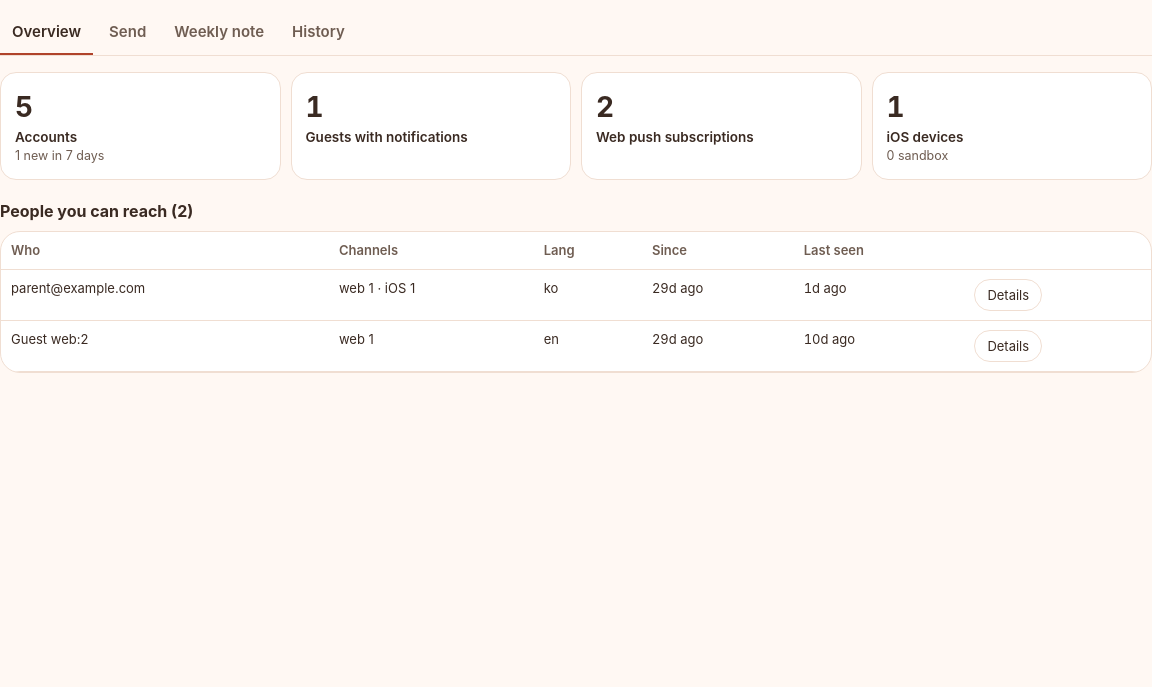
Test: AdminScreen › sending to others unlocks only after a test of the same words, and edits relock it
Click the tab with test id "tab-send" at (128, 33), box [97,11,158,55]
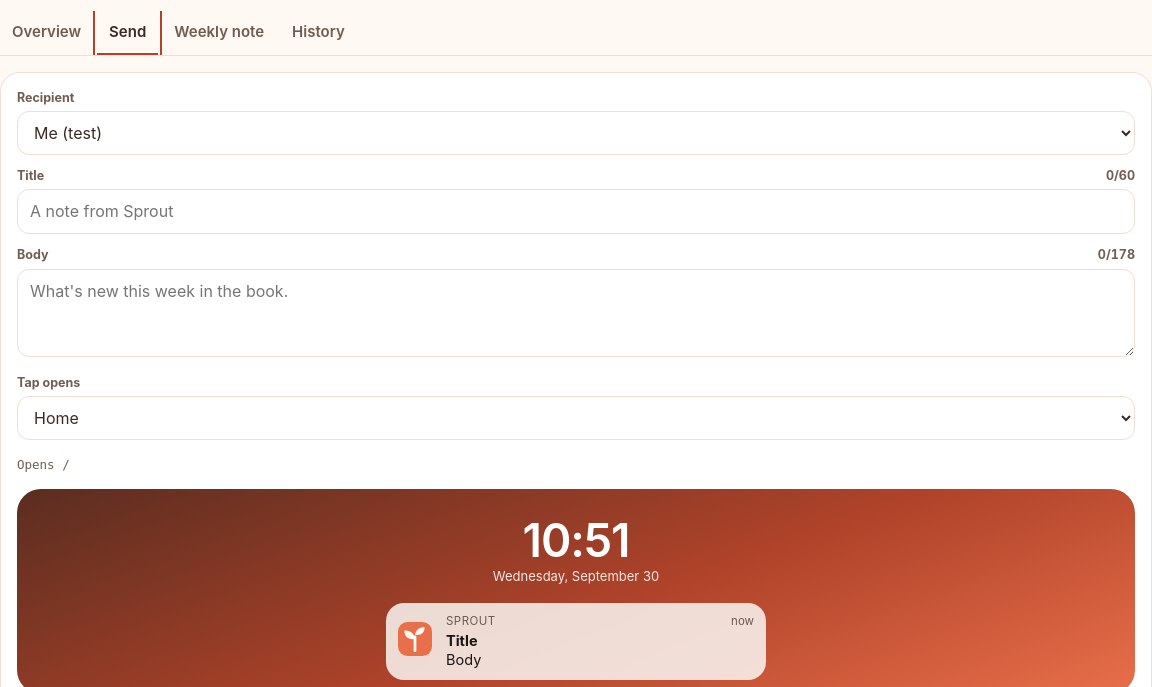
Type "Hello" into the field with test id "admin-title" at (576, 212), box [17,189,1135,234]
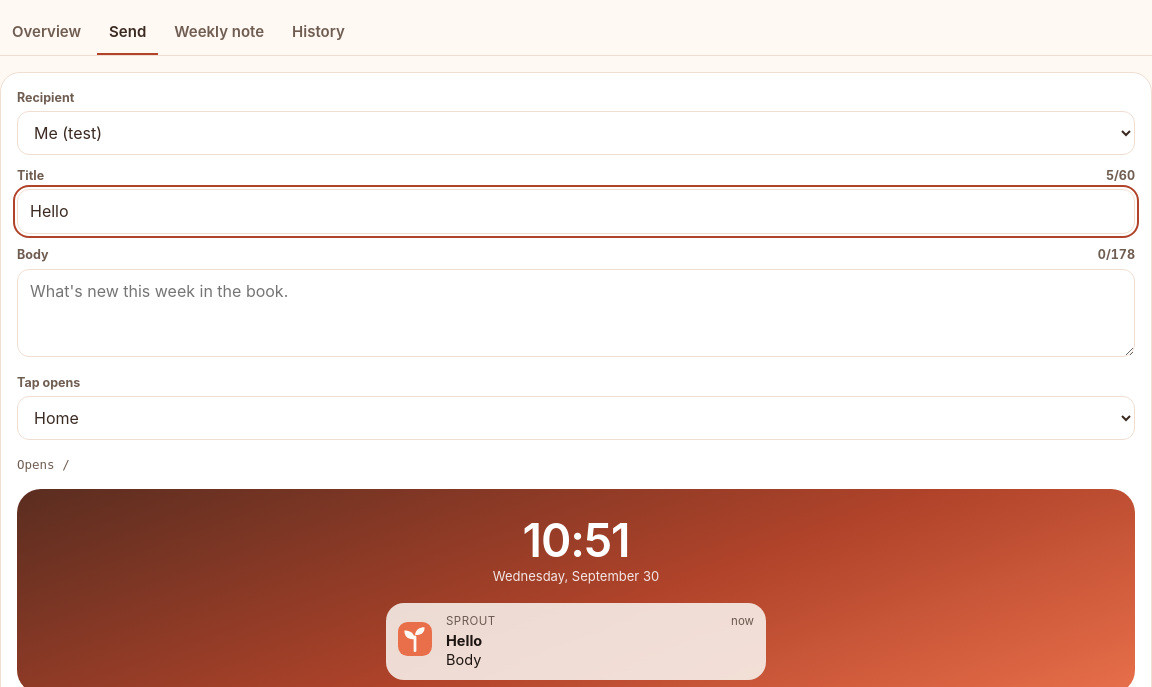
Type "A note" into the text box with test id "admin-body" at (576, 313), box [17,269,1135,357]
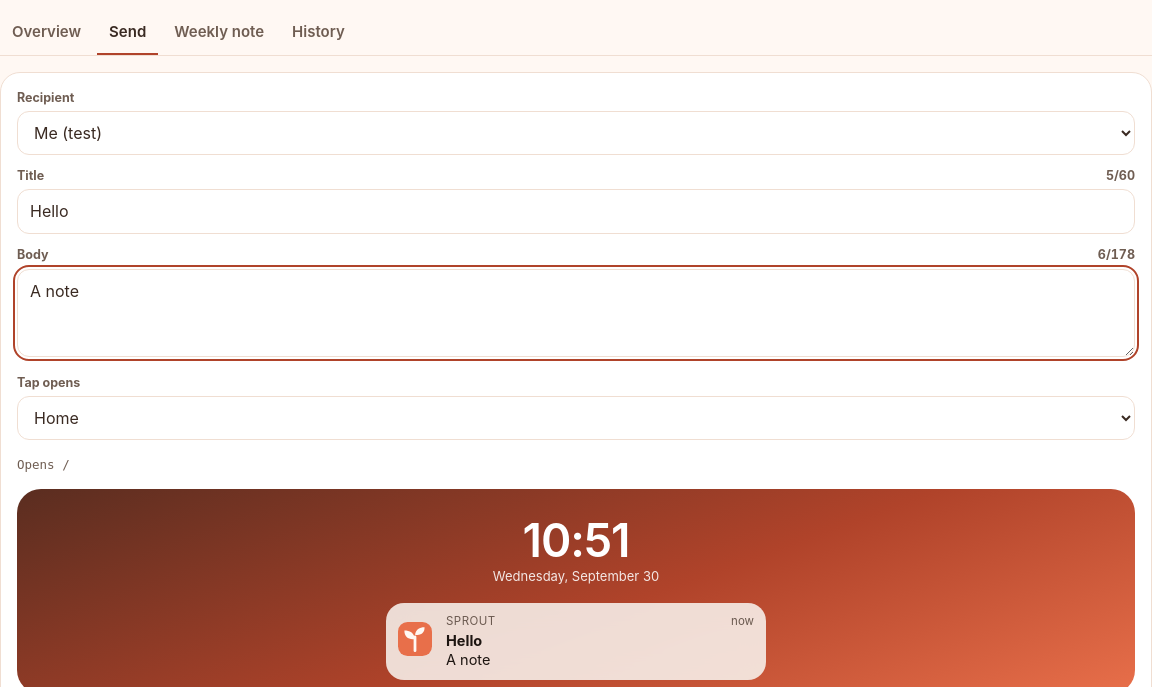
expect the text with test id "admin-title-count" reads "5/60": met, box [1106,167,1135,185]
expect the element with test id "admin-preview" shows "Hello": met, box [446,632,482,649]
Select "Guest web:2 · web 1" in the dropdown with test id "admin-recipient" at (576, 133), box [17,111,1135,155]
(page scrolled)
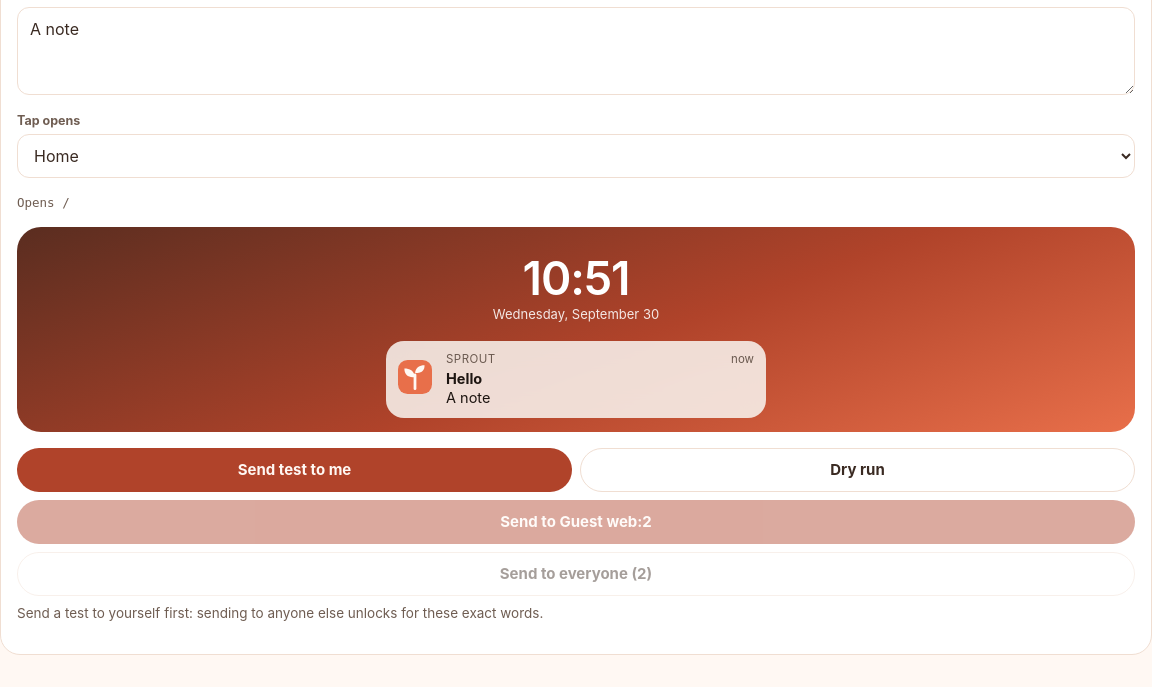
expect the button with test id "admin-send-one" is disabled: met, box [17,500,1135,544]
Click the button with test id "admin-send-test" at (294, 470), box [17,448,572,492]
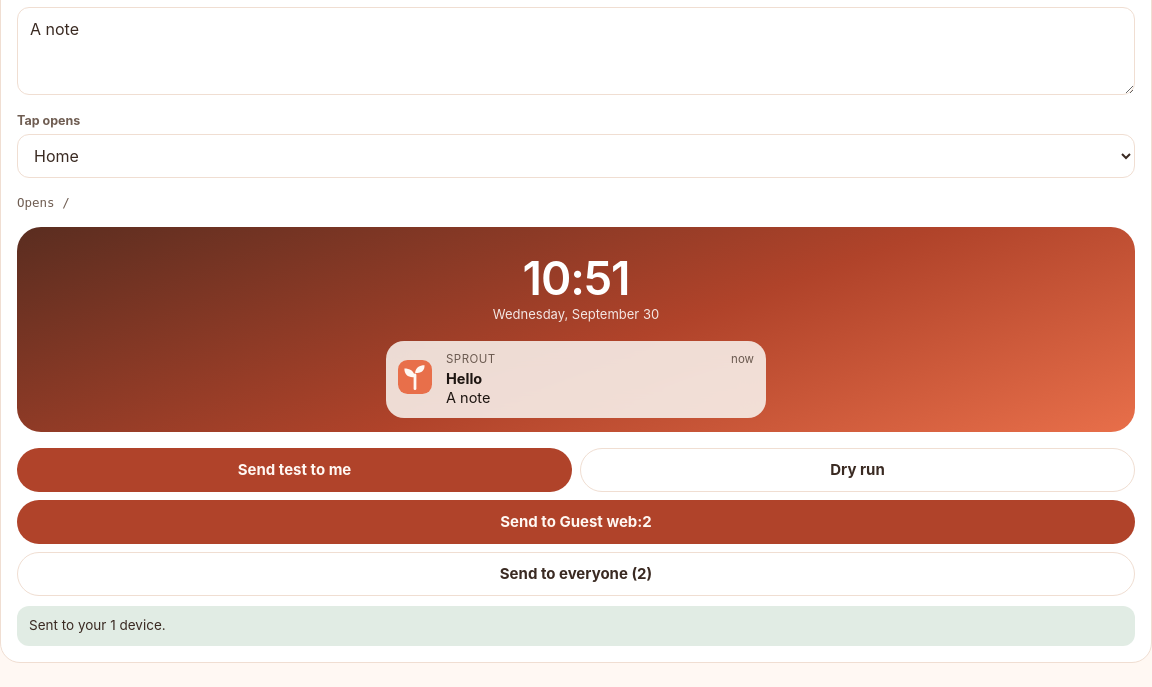
expect the button with test id "admin-send-one" is enabled: met, box [17,500,1135,544]
Type "!" into the text box with test id "admin-body" at (576, 51), box [17,7,1135,95]
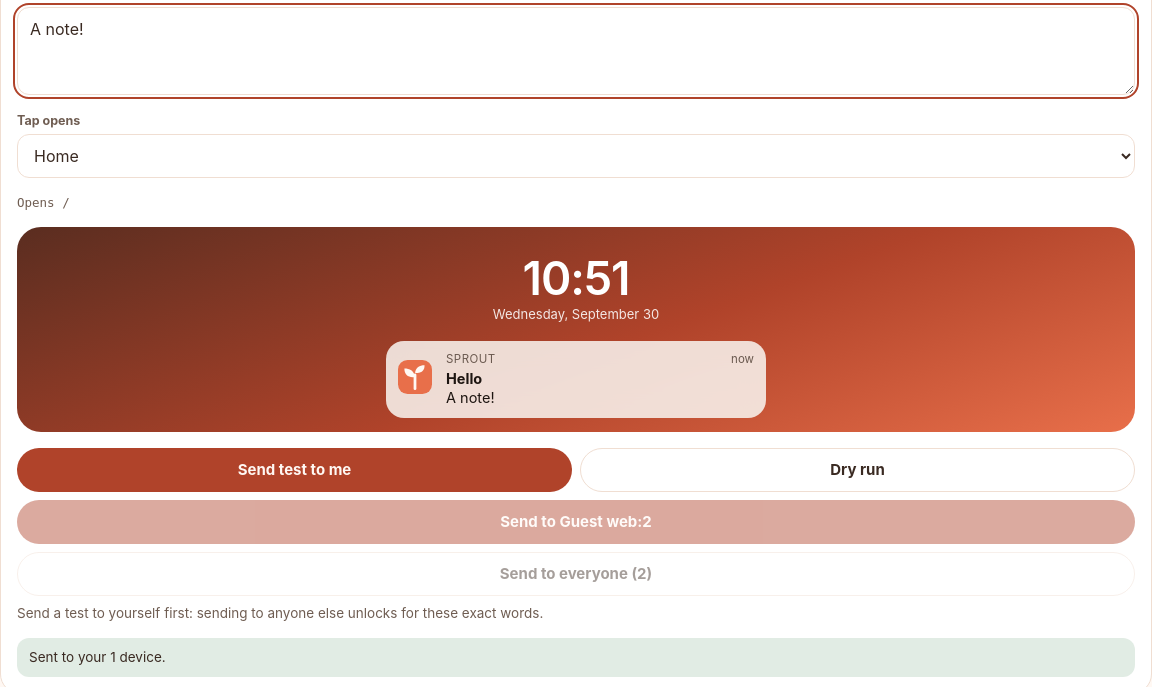
expect the button with test id "admin-send-one" is disabled: met, box [17,500,1135,544]
